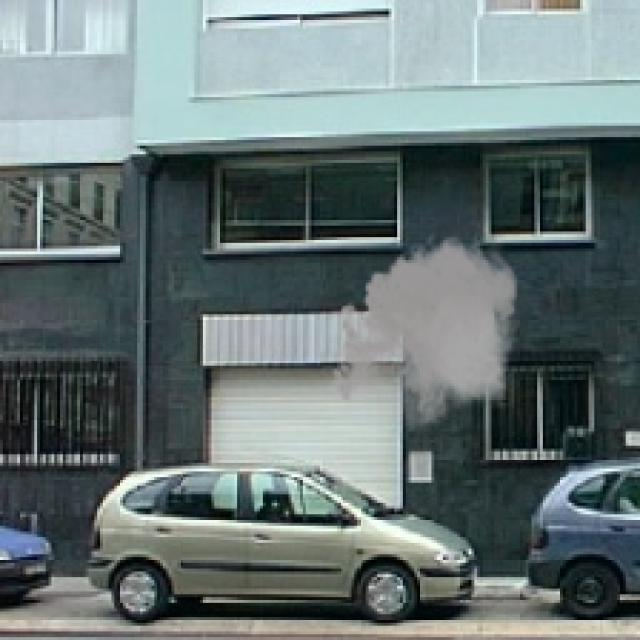smoke: (326, 229, 526, 437)
